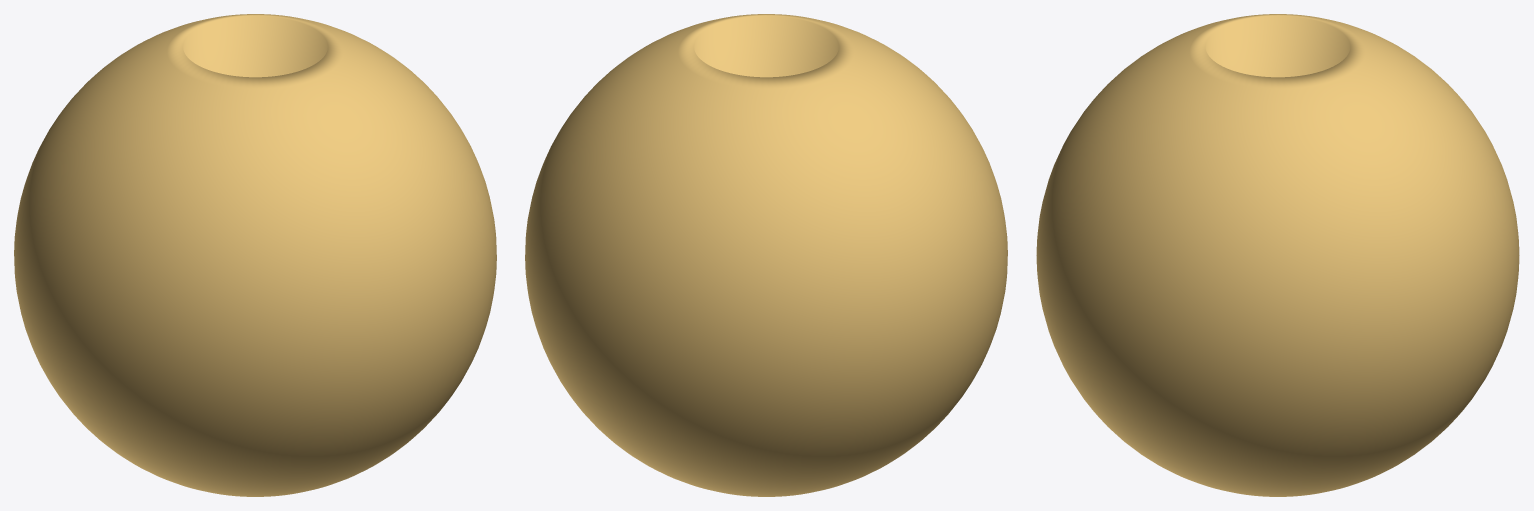
Rendered from spacer-01-gold.glb.
The picture shows the model from 3 angles, left to right: view 1: azimuth 30°, elevation 25°; view 2: azimuth 150°, elevation 25°; view 3: azimuth 270°, elevation 25°; orthographic projection.
Parts seen in each view (by area): view 1: Spacer with through bore; view 2: Spacer with through bore; view 3: Spacer with through bore.
Boxes of the visible parts, left/top/right/bottom form: Spacer with through bore: left=14, top=14, right=496, bottom=496; Spacer with through bore: left=525, top=14, right=1007, bottom=496; Spacer with through bore: left=1036, top=14, right=1519, bottom=496.
Bounding box in the file's own units: 0.004 × 0.00382 × 0.004.
